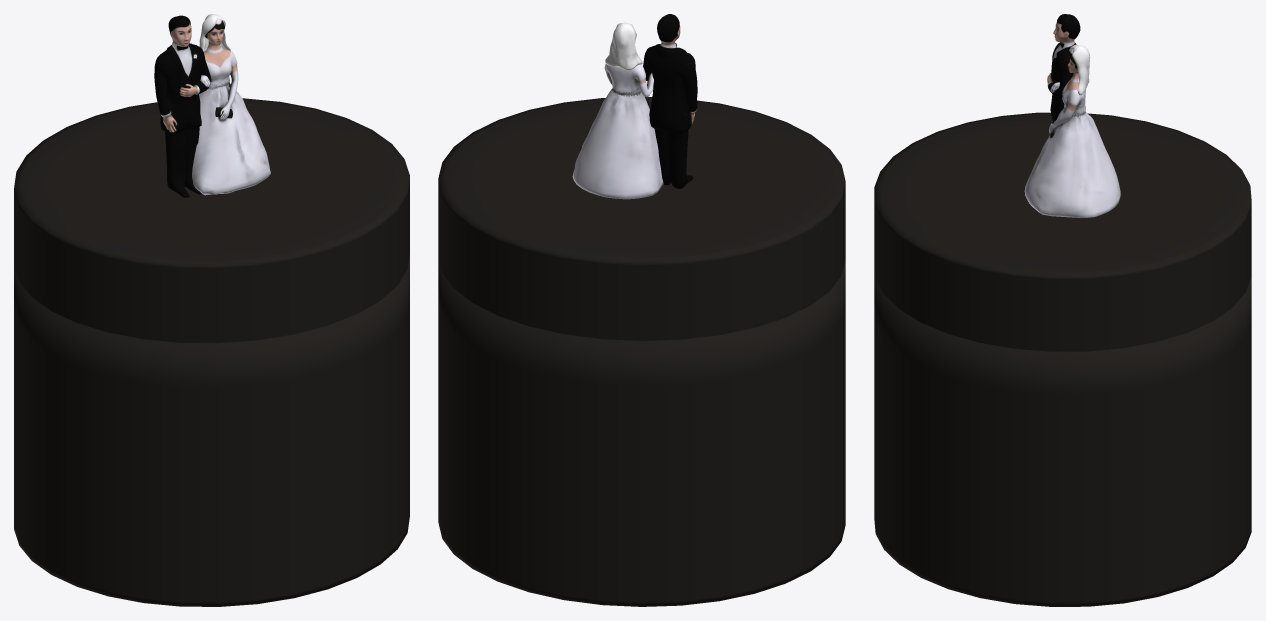
The model's file is 1-tier-black-none-bridegroom.glb.
The picture shows the model from 3 angles, left to right: view 1: azimuth 30°, elevation 25°; view 2: azimuth 150°, elevation 25°; view 3: azimuth 270°, elevation 25°; orthographic projection. The views are drawn at different scales.
Visible parts, largest first — view 1: Cylinder.019, 13501_Cake_Topper_Bride_Groom_v1_L1.004; view 2: Cylinder.019, 13501_Cake_Topper_Bride_Groom_v1_L1.004; view 3: Cylinder.019, 13501_Cake_Topper_Bride_Groom_v1_L1.004.
Part boxes in pixels (<box>): Cylinder.019: <box>14,98,409,606</box>; 13501_Cake_Topper_Bride_Groom_v1_L1.004: <box>154,14,270,197</box>; Cylinder.019: <box>438,97,845,606</box>; 13501_Cake_Topper_Bride_Groom_v1_L1.004: <box>572,14,697,199</box>; Cylinder.019: <box>874,112,1251,606</box>; 13501_Cake_Topper_Bride_Groom_v1_L1.004: <box>1024,14,1120,217</box>.
Size of the model in its own units: 2.63 by 3.7 by 2.55.
2 materials, 1 textured.
